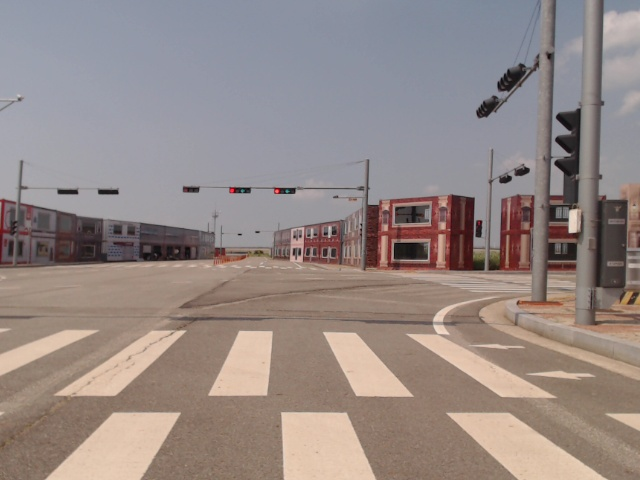left_green_4: (228, 186, 252, 194), (274, 188, 295, 195)
